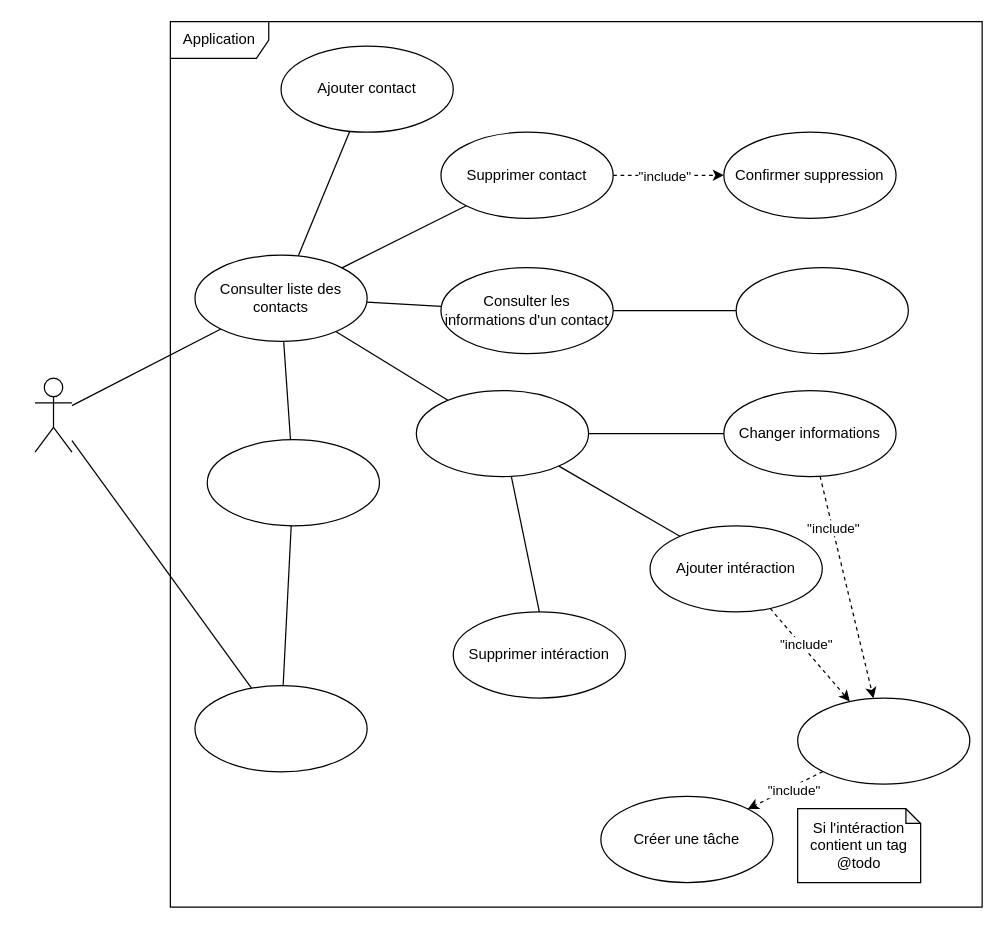
Some shapes in this 1004 by 929 pixel diagram are drawn without their labels. Here are the shapes that lost their labels. From the top down, the centre of each, then its label:
At point (821, 310): "Consulter les intéractions d'un contact".
At point (53, 414): "Utilisateur".
At point (502, 433): "Modifier contact".
At point (292, 482): "Trier/Faire des recherches".
At point (280, 728): "Consulter liste des tâches".
At point (883, 740): "Confirmer changements".
